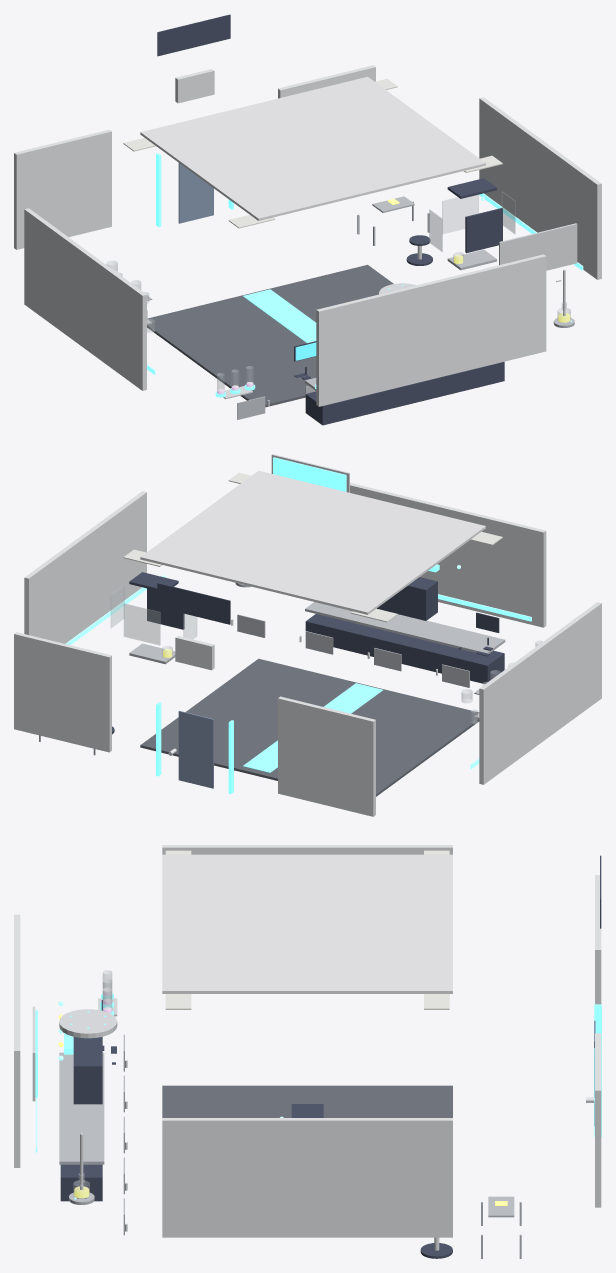
Rendered from CCDLab.fbx.
The picture shows the model from 3 angles, top to bottom: view 1: azimuth 30°, elevation 25°; view 2: azimuth 150°, elevation 25°; view 3: azimuth 270°, elevation 25°; orthographic projection. The views are drawn at different scales.
Visible parts, largest first — view 1: CCDLab_Ceiling, CCDLab_Wall_Back, CCDLab_Floor, CCDLab_Wall_Left, CCDLab_Wall_Right, CCDLab_Wall_Front_L, CCDLab_CounterCabinet, CCDLab_ResultScreen_Frame, CCDLab_SignBackplate, CCDLab_FloorStrip_Center, CCDLab_Door, CCDLab_Fume_BackPanel (+5 smaller); view 2: CCDLab_Ceiling, CCDLab_Floor, CCDLab_Wall_Left, CCDLab_Wall_Right, CCDLab_Wall_Back, CCDLab_Wall_Front_L, CCDLab_Wall_Front_R, CCDLab_CounterCabinet, CCDLab_MainCounter, CCDLab_Door, CCDLab_SignBackplate, CCDLab_Spectrometer_Body (+12 smaller); view 3: CCDLab_Ceiling, CCDLab_Wall_Right, CCDLab_Floor, CCDLab_MainCounter, CCDLab_Wall_Left, CCDLab_Spectrometer_Body, CCDLab_Wall_Back, CCDLab_Spectrometer_Rotor, CCDLab_CounterCabinet, CCDLab_Wall_Front_R.
Boxes of the visible parts, <box> form: CCDLab_Ceiling: <box>140,76,485,220</box>; CCDLab_Wall_Back: <box>316,254,546,406</box>; CCDLab_Floor: <box>147,264,393,407</box>; CCDLab_Wall_Left: <box>24,208,146,390</box>; CCDLab_Wall_Right: <box>479,97,601,279</box>; CCDLab_Wall_Front_L: <box>14,129,111,249</box>; CCDLab_CounterCabinet: <box>305,362,504,425</box>; CCDLab_ResultScreen_Frame: <box>499,223,577,270</box>; CCDLab_SignBackplate: <box>157,14,230,56</box>; CCDLab_FloorStrip_Center: <box>243,289,316,343</box>; CCDLab_Door: <box>178,163,213,223</box>; CCDLab_Fume_BackPanel: <box>465,208,502,253</box>; CCDLab_Ceiling: <box>140,470,485,614</box>; CCDLab_Floor: <box>140,658,479,796</box>; CCDLab_Wall_Left: <box>479,602,601,784</box>; CCDLab_Wall_Right: <box>24,491,146,643</box>; CCDLab_Wall_Back: <box>350,483,546,627</box>; CCDLab_Wall_Front_L: <box>278,696,375,816</box>; CCDLab_Wall_Front_R: <box>14,632,111,752</box>; CCDLab_CounterCabinet: <box>305,614,504,683</box>; CCDLab_MainCounter: <box>305,602,505,653</box>; CCDLab_Door: <box>178,711,213,788</box>; CCDLab_SignBackplate: <box>157,583,230,624</box>; CCDLab_Spectrometer_Body: <box>377,577,437,620</box>; CCDLab_Ceiling: <box>162,854,452,993</box>; CCDLab_Wall_Right: <box>162,1118,452,1237</box>; CCDLab_Floor: <box>162,1085,452,1117</box>; CCDLab_MainCounter: <box>59,1052,104,1164</box>; CCDLab_Wall_Left: <box>162,845,452,854</box>; CCDLab_Spectrometer_Body: <box>73,1037,102,1104</box>; CCDLab_Wall_Back: <box>14,914,20,1167</box>; CCDLab_Spectrometer_Rotor: <box>59,1009,117,1038</box>; CCDLab_CounterCabinet: <box>60,1164,102,1201</box>; CCDLab_Wall_Front_R: <box>595,1033,601,1207</box>.
Bounding box in the file's own units: 10.1 × 4.78 × 9.11.
